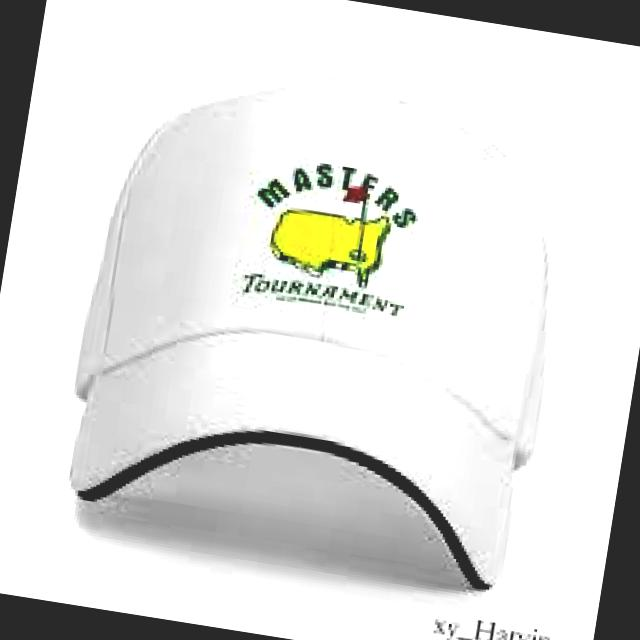hat: (71, 80, 547, 588)
